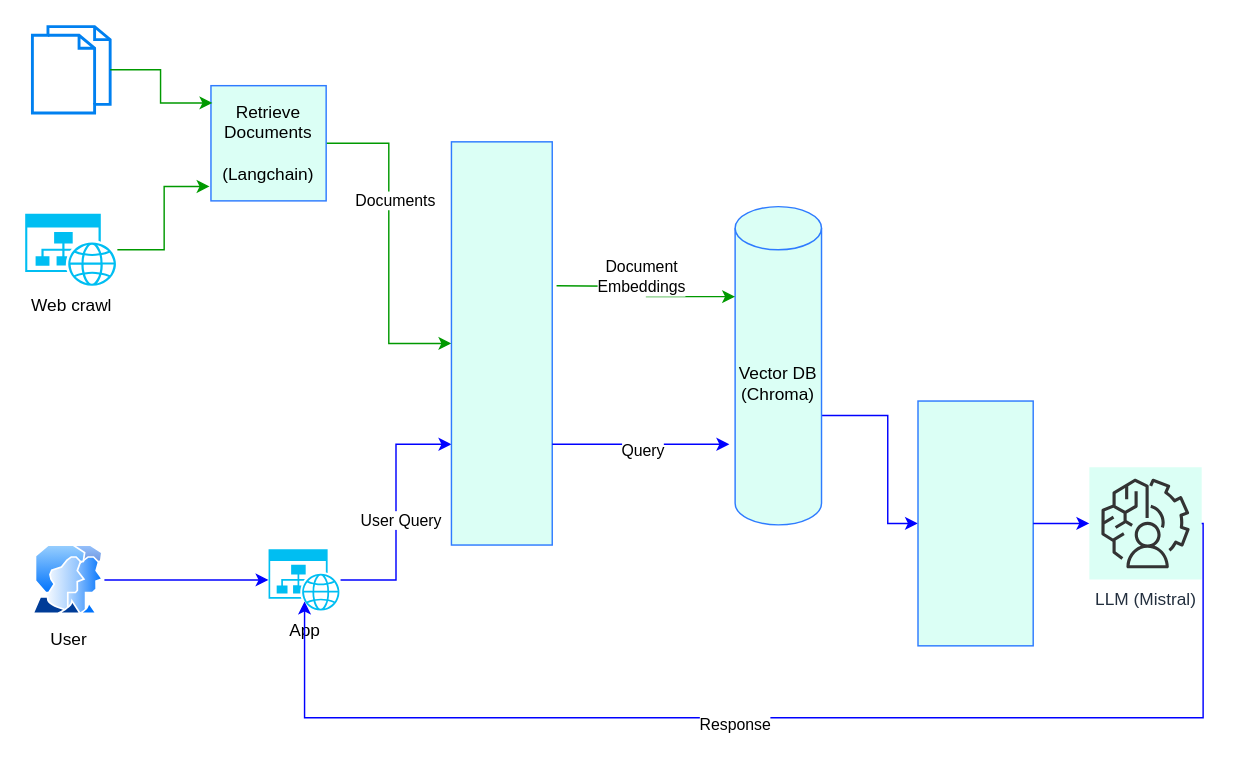
This 1240x757 diagram has some shape labels left out. Each missing label, with the centre of its shape:
"Embedding Model (nomic-embed-text)" goes at [501,342].
"PDF Docs" goes at [70,69].
"Query + Relevant Chunks" goes at [975,523].
